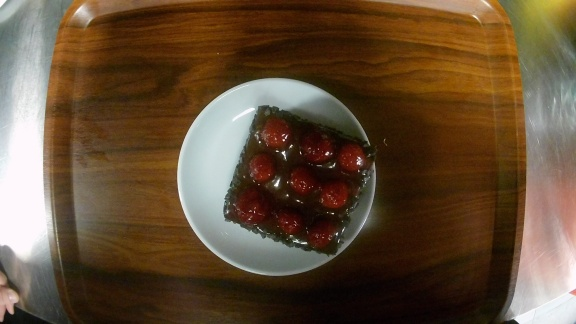cileklipasta: (177, 78, 377, 276)
